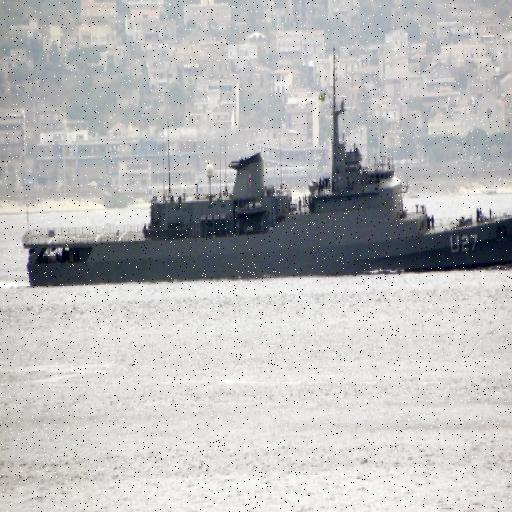Fragata: (22, 38, 512, 297)
